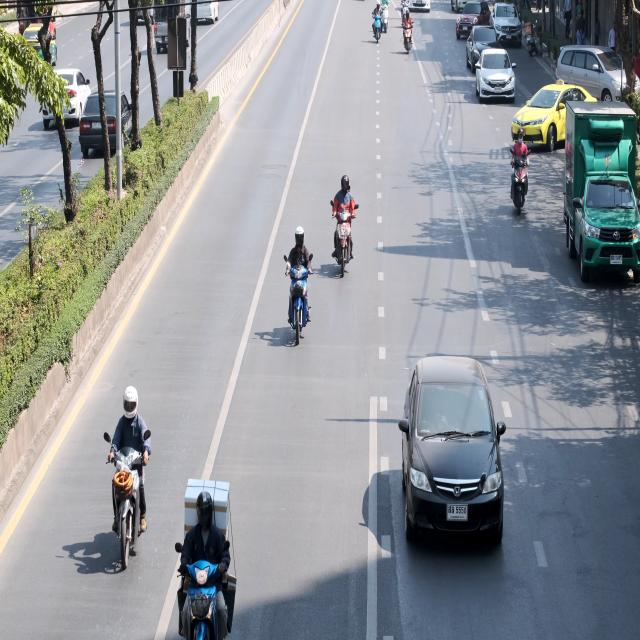cars: (392, 344, 518, 578), (561, 92, 640, 313), (554, 32, 640, 122), (511, 75, 602, 154), (78, 74, 137, 164), (31, 54, 100, 130), (6, 0, 66, 85), (472, 40, 527, 104), (148, 3, 192, 70), (460, 24, 510, 67), (455, 0, 491, 39), (489, 0, 522, 41), (185, 0, 225, 27)
motorcycle: (159, 465, 250, 640), (98, 375, 154, 578), (274, 215, 323, 362), (324, 168, 368, 292), (505, 115, 536, 230), (521, 8, 552, 58), (399, 0, 420, 67), (367, 0, 384, 53)
